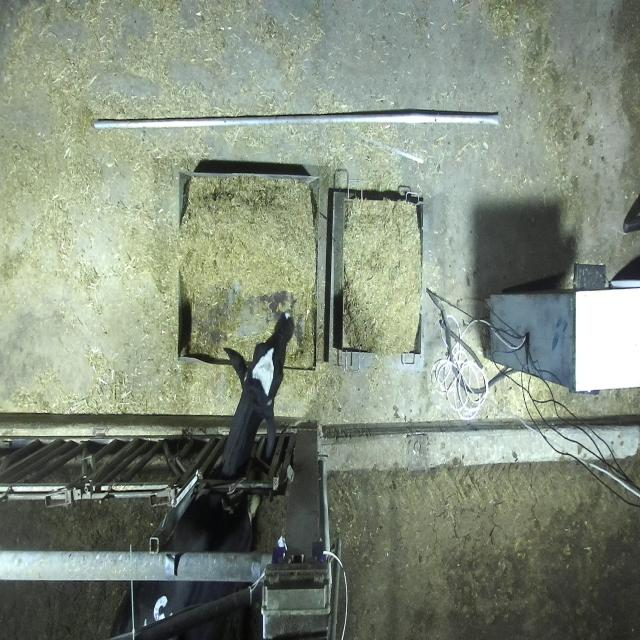cow: (222, 315, 295, 461)
